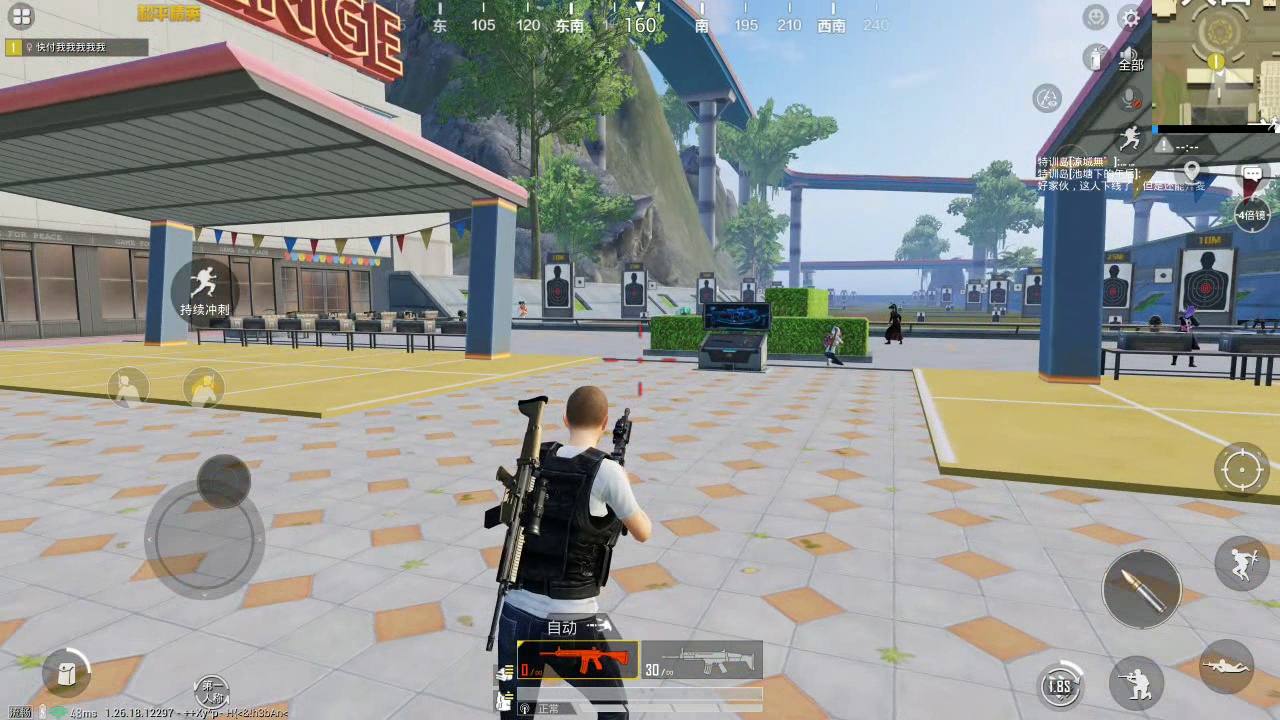enemy: (1172, 305, 1199, 366), (823, 324, 847, 367), (885, 301, 904, 345), (516, 300, 529, 319)
